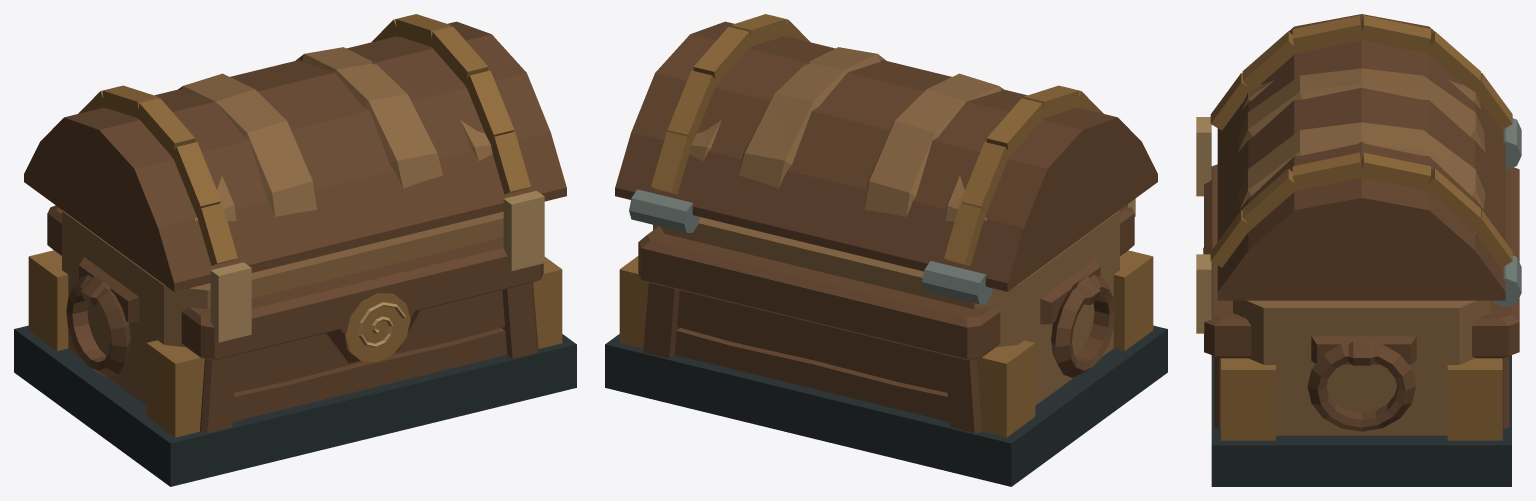
The model's file is FERNSTONE_CACHE.shadow.glb.
The picture shows the model from 3 angles, left to right: view 1: azimuth 30°, elevation 25°; view 2: azimuth 150°, elevation 25°; view 3: azimuth 270°, elevation 25°; orthographic projection. The views are drawn at different scales.
Visible parts, largest first — view 1: Body_Mesh, LidPivot_Mesh; view 2: Body_Mesh, LidPivot_Mesh; view 3: LidPivot_Mesh, Body_Mesh.
Part boxes in pixels (bbox=[...]): Body_Mesh: bbox=[14, 190, 576, 486]; LidPivot_Mesh: bbox=[24, 14, 566, 291]; Body_Mesh: bbox=[605, 189, 1167, 486]; LidPivot_Mesh: bbox=[615, 14, 1157, 291]; LidPivot_Mesh: bbox=[1210, 14, 1512, 300]; Body_Mesh: bbox=[1196, 117, 1521, 486].
Bounding box in the file's own units: 1.52 × 1.09 × 1.06.
